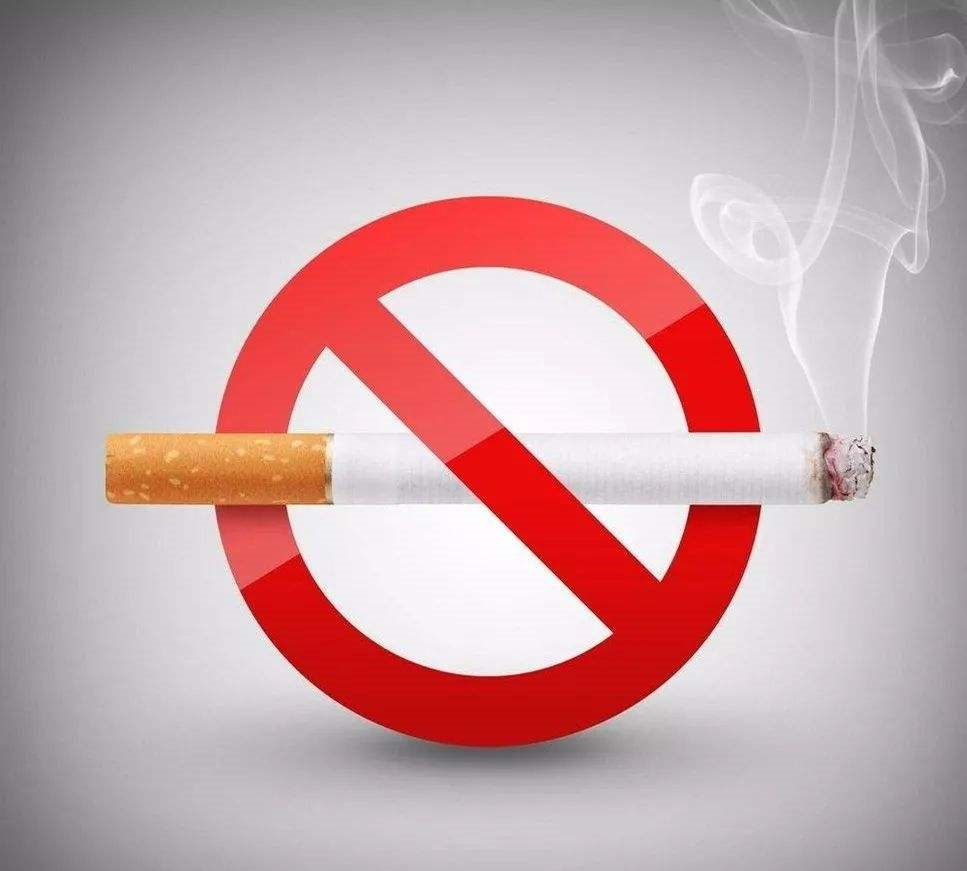yanwu: (691, 4, 962, 408)
